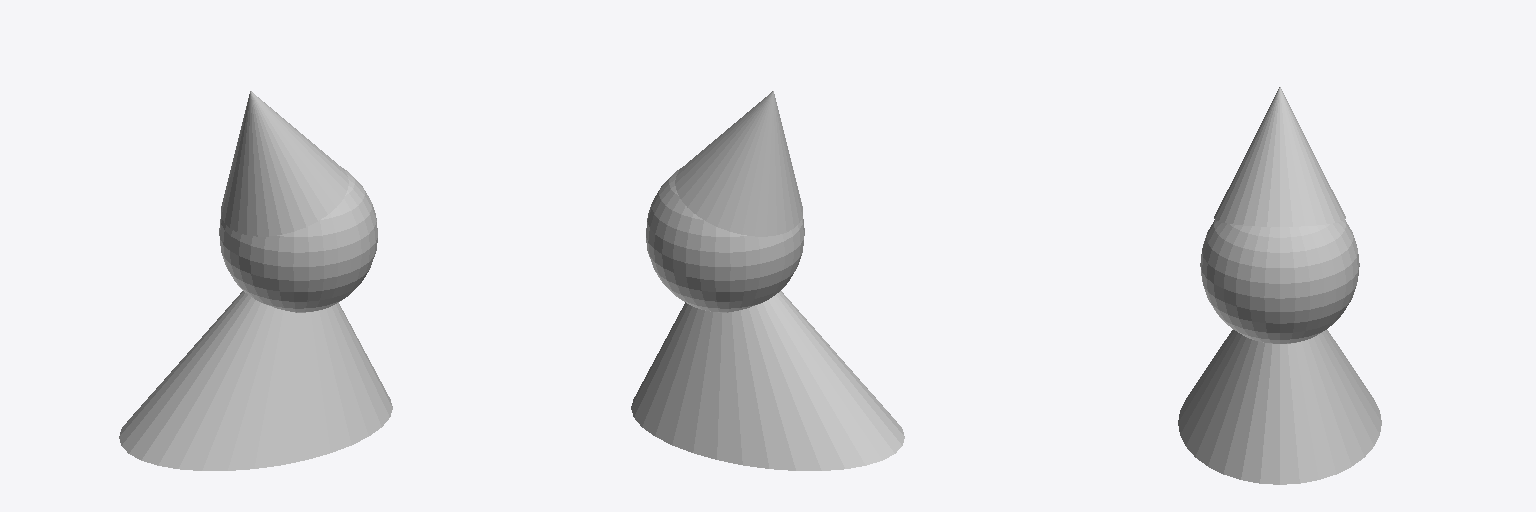
Rendered from wiizard.obj.
3 views of the same model, side by side, from view 1: azimuth 30°, elevation 25°; view 2: azimuth 150°, elevation 25°; view 3: azimuth 270°, elevation 25° (orthographic).
Visible parts, largest first — view 1: Cone, Sphere, Cone.001; view 2: Cone, Sphere, Cone.001; view 3: Cone, Sphere, Cone.001.
Boxes of the visible parts, box(x1,y1,x2,y2) form: Cone: box(119, 291, 392, 470); Sphere: box(219, 168, 377, 312); Cone.001: box(221, 91, 348, 236); Cone: box(631, 291, 904, 470); Sphere: box(646, 168, 804, 312); Cone.001: box(675, 91, 802, 236); Cone: box(1178, 330, 1381, 484); Sphere: box(1200, 220, 1359, 343); Cone.001: box(1214, 87, 1345, 226).
Bounding box in the file's own units: 2.88 × 3.61 × 2.